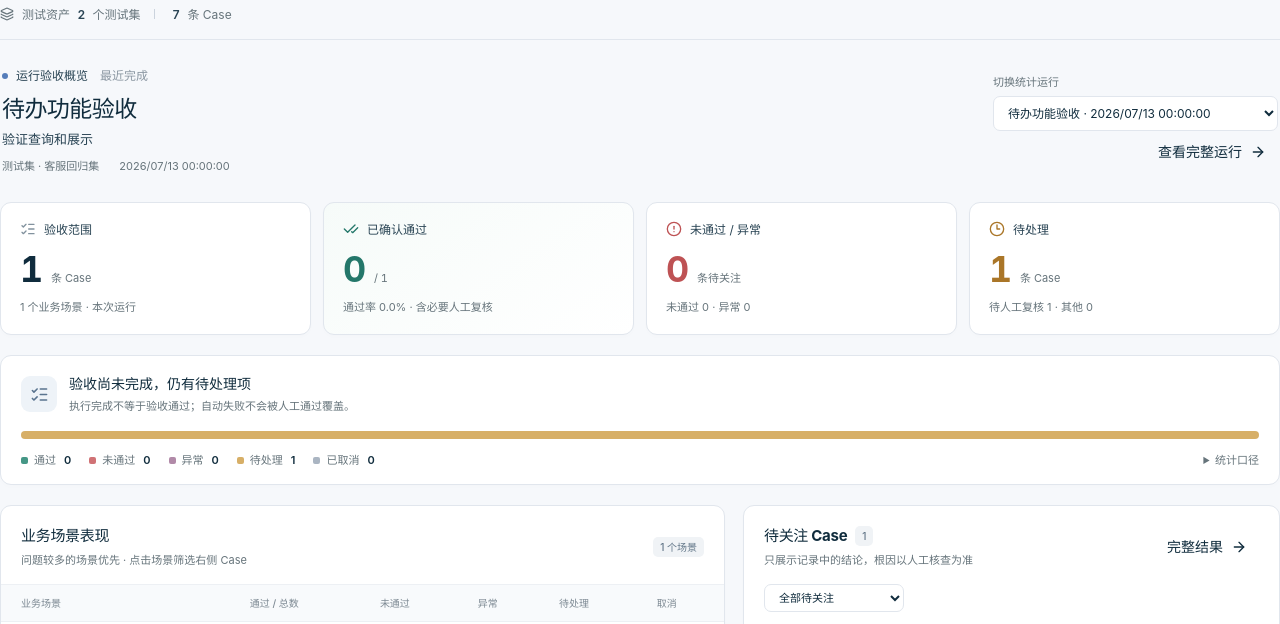
it: 验收仪表盘 › A2UI 自动通过但没有人工批准时计入待处理，不显示全部通过
The image size is (1280, 624).
Expected: the element with test id "quality-pass-count" reads "0/ 1", x1=343 y1=247 x2=388 y2=291
Expected: the element with test id "quality-pending-count" reads "1条 Case", x1=989 y1=247 x2=1060 y2=291
Select "通过" in the dropdown named "关注结论筛选" at (834, 598), box x1=764 y1=584 x2=904 y2=612
(page scrolled)
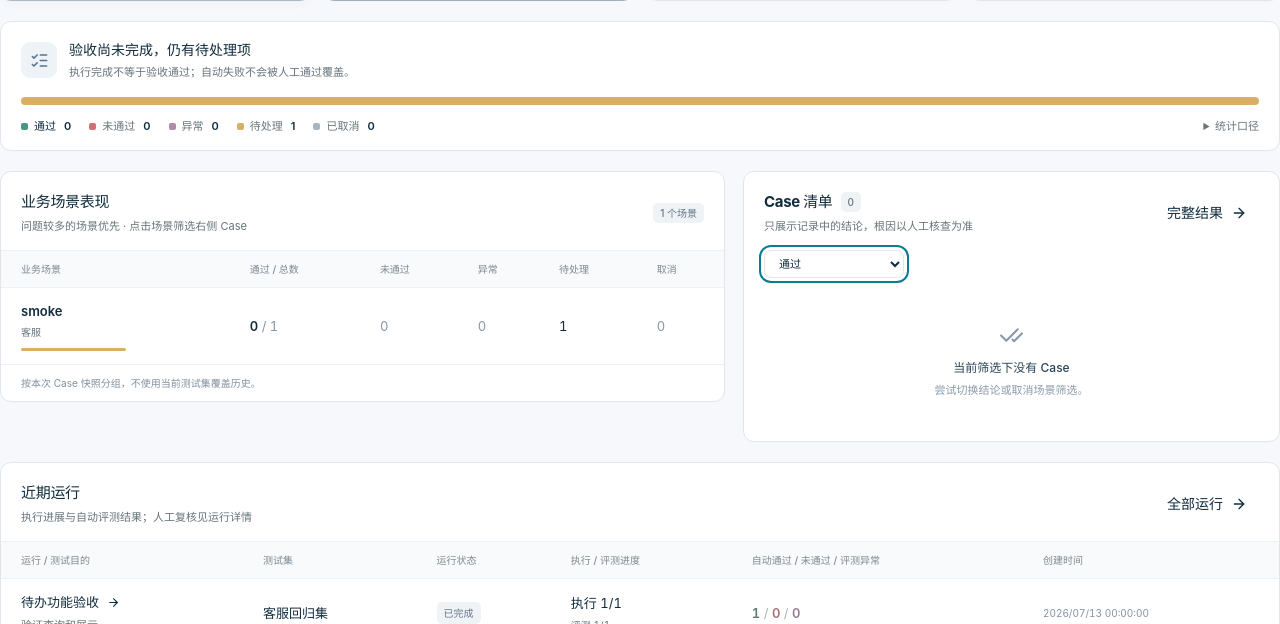
Expected: the text "当前筛选下没有 Case" is shown, x1=953 y1=358 x2=1070 y2=377
